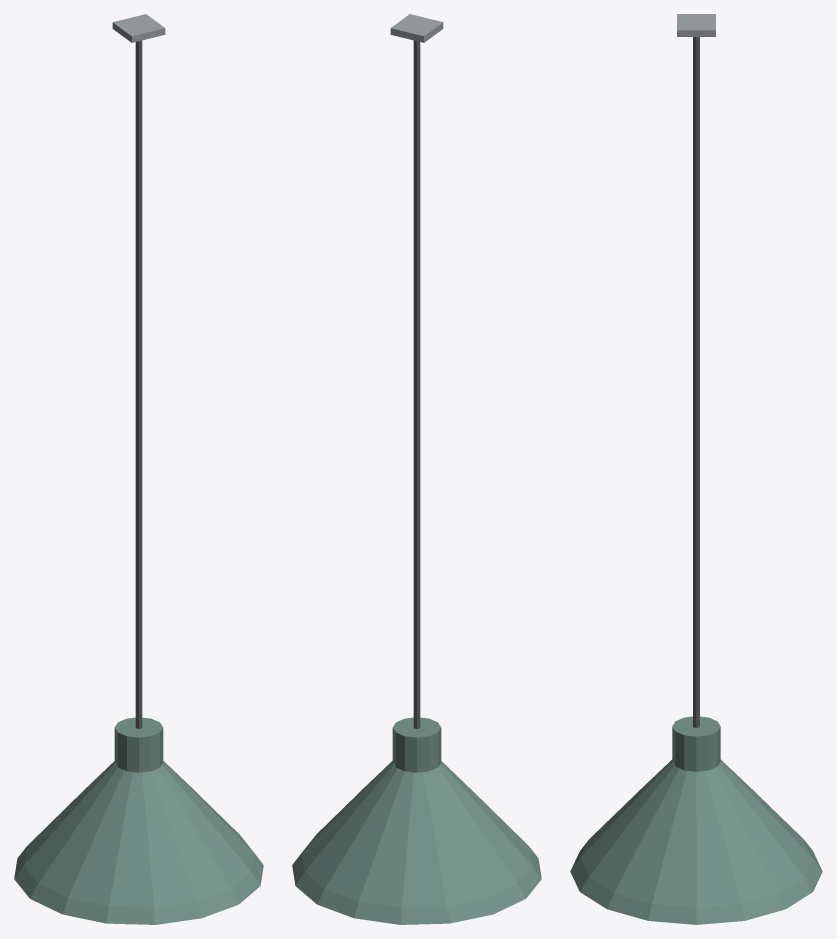
The model's file is pendant.glb.
The picture shows the model from 3 angles, left to right: view 1: azimuth 30°, elevation 25°; view 2: azimuth 150°, elevation 25°; view 3: azimuth 270°, elevation 25°; orthographic projection.
Visible parts, largest first — view 1: pendant_enamel, pendant_iron, pendant_steel; view 2: pendant_enamel, pendant_iron, pendant_steel; view 3: pendant_enamel, pendant_iron, pendant_steel.
Part boxes in pixels (left/top/right/bottom): pendant_enamel: left=14, top=717, right=263, bottom=924; pendant_iron: left=135, top=40, right=142, bottom=728; pendant_steel: left=112, top=14, right=165, bottom=42; pendant_enamel: left=292, top=717, right=541, bottom=924; pendant_iron: left=413, top=40, right=420, bottom=728; pendant_steel: left=390, top=14, right=443, bottom=42; pendant_enamel: left=570, top=716, right=822, bottom=924; pendant_iron: left=693, top=37, right=699, bottom=727; pendant_steel: left=677, top=14, right=715, bottom=36.
Size of the model in its own units: 0.52 by 1.93 by 0.52.
